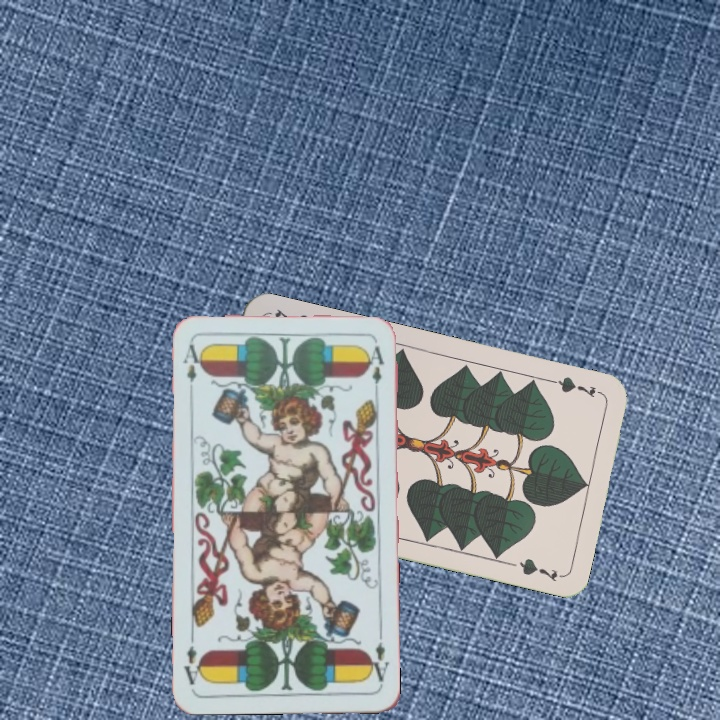EA: (364, 638, 392, 687), (178, 340, 204, 385)
G7: (547, 372, 606, 401)
